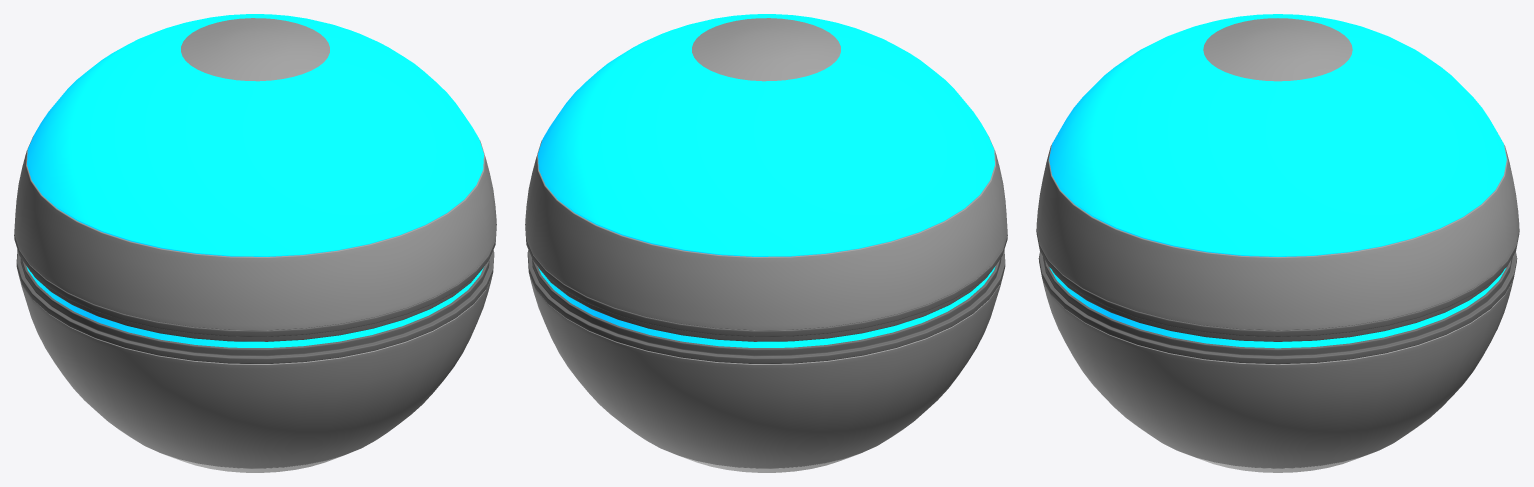
Rendered from noteObject.fbx.
3 views of the same model, side by side, from view 1: azimuth 30°, elevation 25°; view 2: azimuth 150°, elevation 25°; view 3: azimuth 270°, elevation 25° (orthographic).
Parts seen in each view (by area): view 1: topDomeLight, polySurface20, polySurface18, polySurface16, polySurface17, polySurface19; view 2: topDomeLight, polySurface20, polySurface18, polySurface16, polySurface17, polySurface19; view 3: topDomeLight, polySurface20, polySurface18, polySurface16, polySurface17, polySurface19.
Part boxes in pixels (x1,y1,x2,y2): topDomeLight: (27, 14, 483, 256); polySurface20: (14, 136, 496, 468); polySurface18: (14, 224, 496, 363); polySurface16: (181, 18, 329, 81); polySurface17: (26, 266, 483, 347); polySurface19: (163, 454, 342, 472); topDomeLight: (538, 14, 994, 256); polySurface20: (525, 136, 1007, 468); polySurface18: (525, 224, 1007, 363); polySurface16: (692, 18, 840, 81); polySurface17: (538, 266, 995, 347); polySurface19: (679, 454, 858, 472); topDomeLight: (1049, 14, 1506, 256); polySurface20: (1036, 144, 1519, 468); polySurface18: (1036, 229, 1519, 364); polySurface16: (1203, 18, 1352, 81); polySurface17: (1049, 267, 1506, 348); polySurface19: (1181, 452, 1374, 472).
Size of the model in its own units: 15.79 by 14.76 by 15.79.
